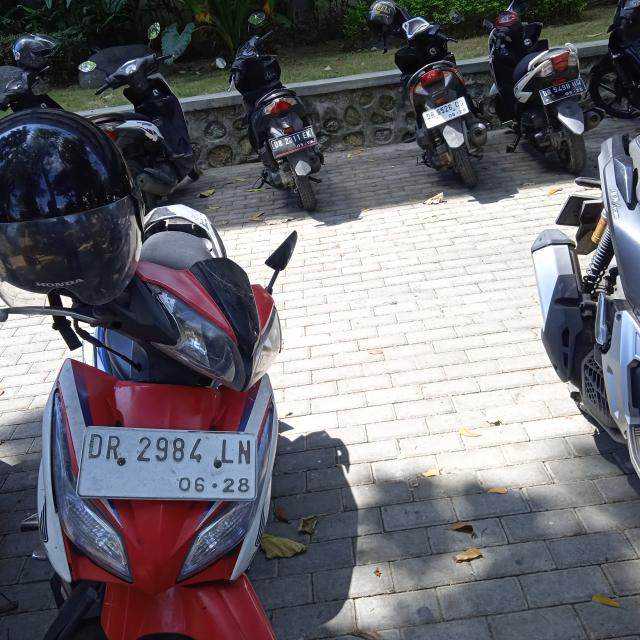plate: (75, 428, 256, 502), (268, 125, 318, 159), (422, 96, 471, 130), (538, 75, 587, 106)
